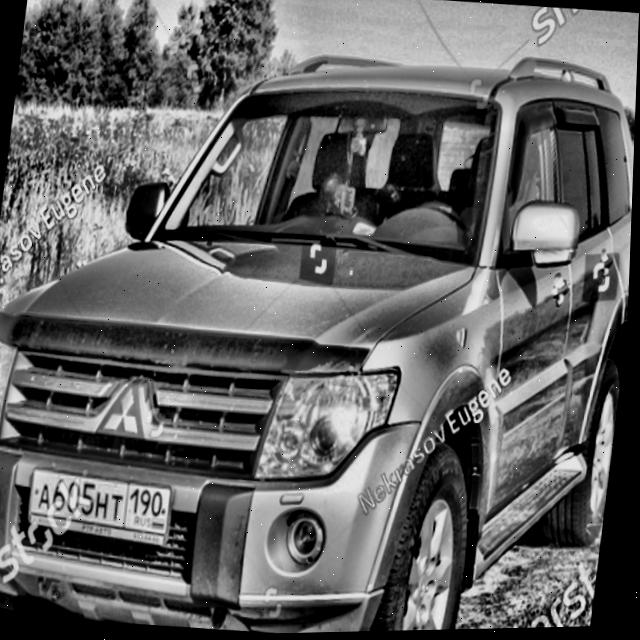light_vehicle: (0, 16, 639, 640)
